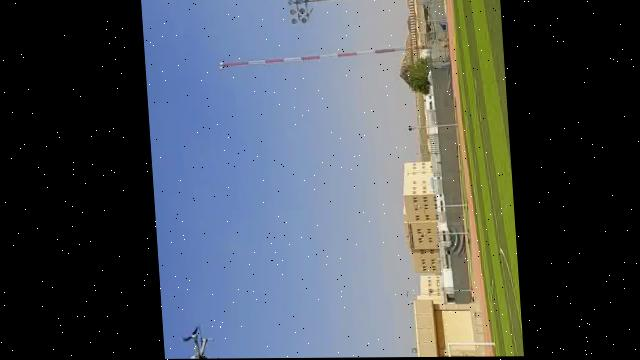drone: (174, 321, 216, 359)
